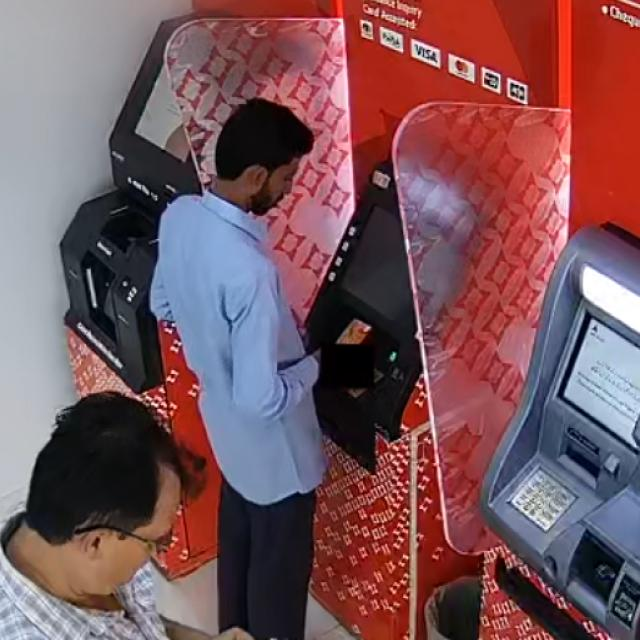atm-card: (330, 310, 377, 349)
